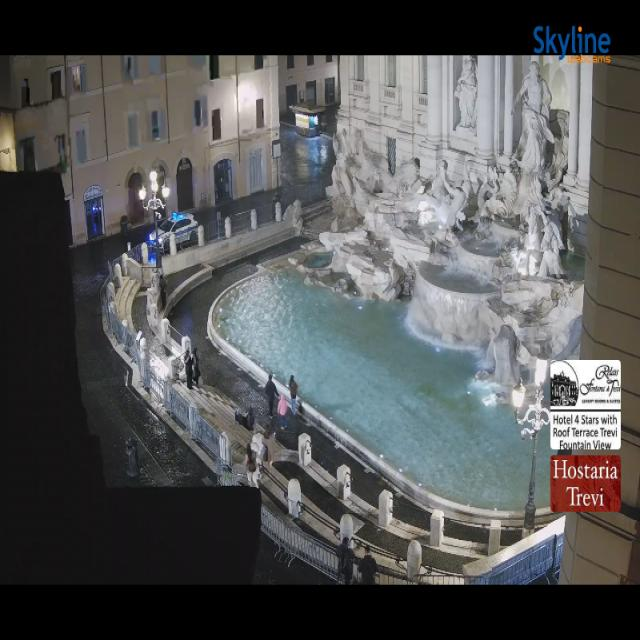person: (337, 537, 355, 584), (358, 545, 377, 584), (264, 373, 279, 417), (245, 444, 258, 487), (263, 429, 275, 470), (184, 350, 193, 389), (277, 395, 287, 429), (289, 376, 297, 417), (159, 271, 167, 309), (192, 349, 200, 387), (247, 406, 255, 430)
